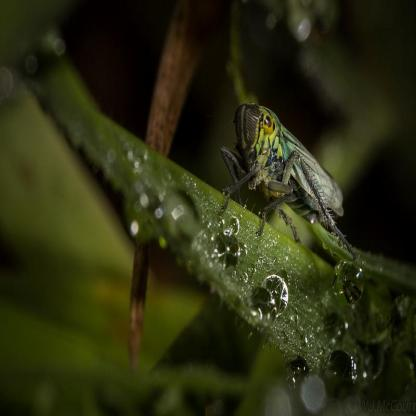Green-Leafhopper: (206, 92, 357, 277)
